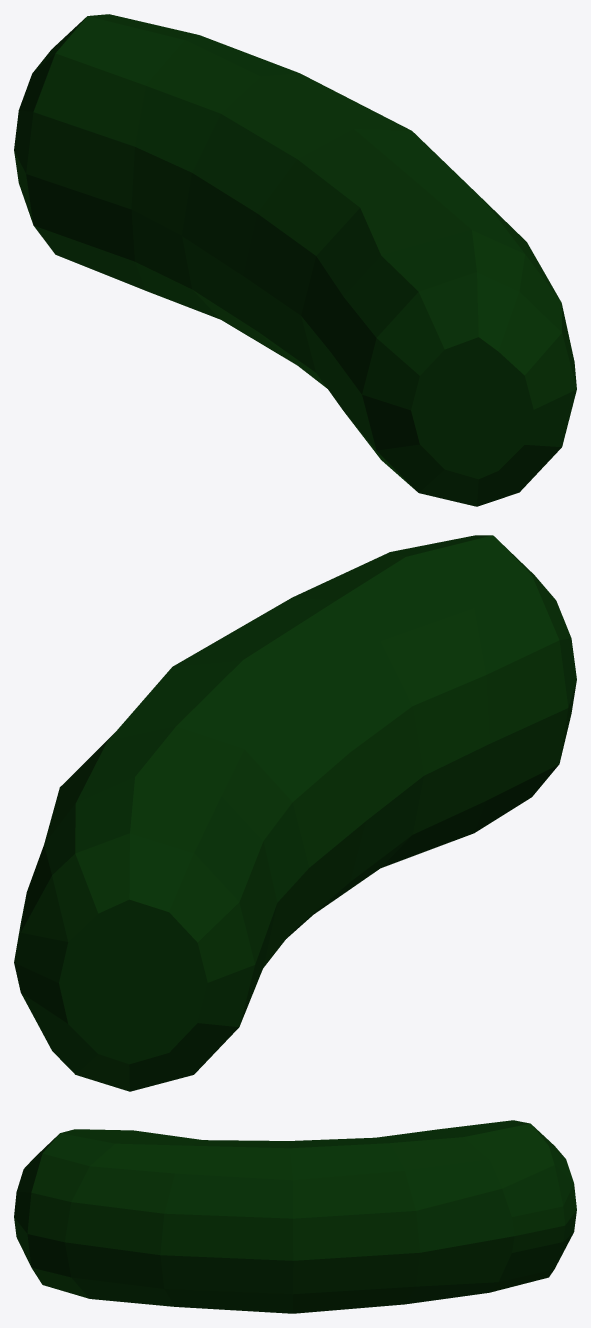
File: LudumDarePickle 1.fbx
The picture shows the model from 3 angles, top to bottom: view 1: azimuth 30°, elevation 25°; view 2: azimuth 150°, elevation 25°; view 3: azimuth 270°, elevation 25°; orthographic projection. The views are drawn at different scales.
Parts seen in each view (by area): view 1: Torus; view 2: Torus; view 3: Torus.
Boxes of the visible parts, left/top/right/bottom form: Torus: left=14, top=14, right=576, bottom=506; Torus: left=14, top=535, right=576, bottom=1091; Torus: left=14, top=1120, right=576, bottom=1313.
Size of the model in its own units: 5.11 by 4.27 by 13.91.
